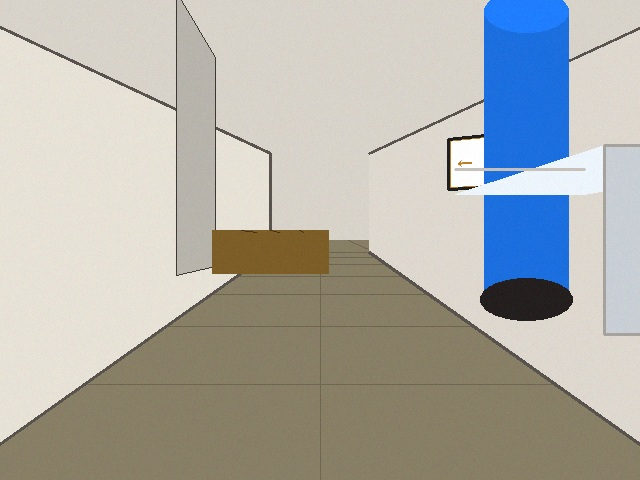directional_sign: (448, 127, 559, 189)
hospital_bed: (455, 145, 639, 334)
pallet: (212, 230, 328, 273)
person: (484, 11, 568, 299)
